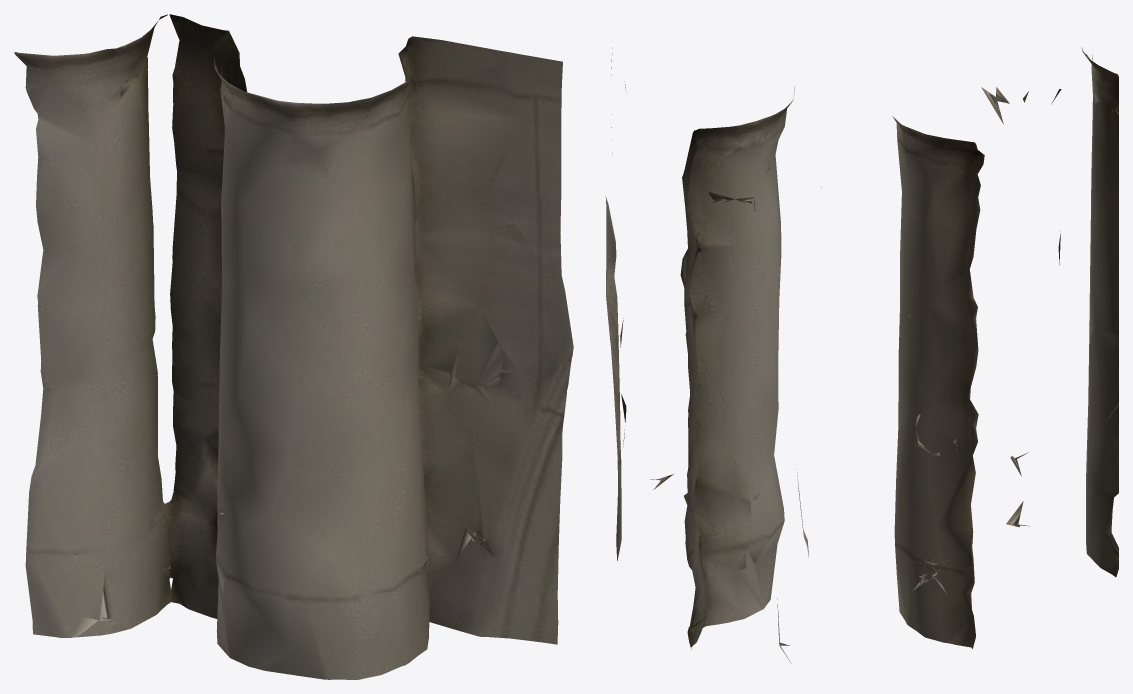
3 renders of one model, left to right at view 1: azimuth 30°, elevation 25°; view 2: azimuth 150°, elevation 25°; view 3: azimuth 270°, elevation 25°, orthographic. The views are drawn at different scales.
Bounding box in the file's own units: 1.66 × 2.32 × 1.13.
1 material, 1 textured.
